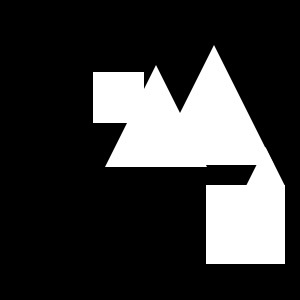circle: (206, 185, 285, 264), (93, 72, 144, 123)
triangle: (154, 45, 274, 165), (105, 65, 207, 167), (246, 147, 285, 186)
